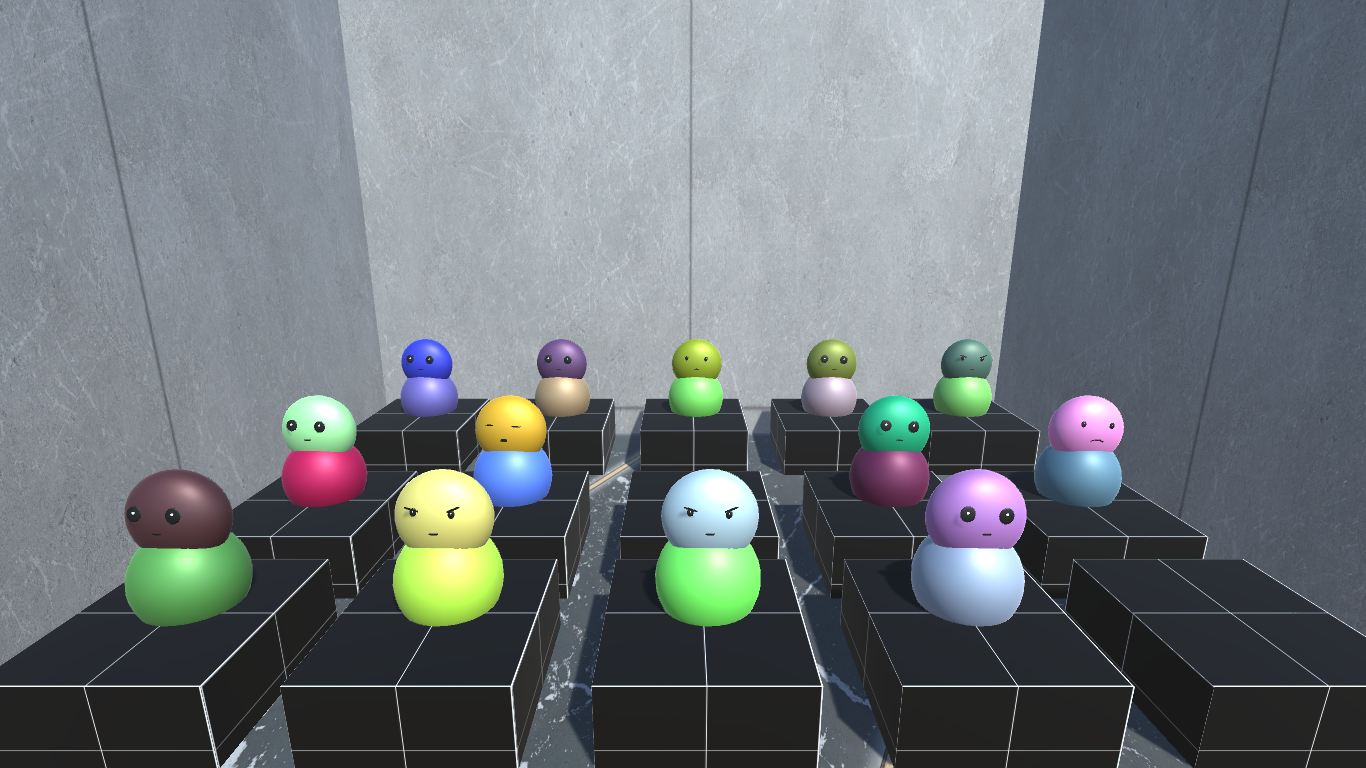blob_atento: (910, 457, 1024, 563), (114, 467, 237, 557), (275, 393, 357, 455), (854, 394, 934, 455), (396, 334, 455, 383), (801, 336, 858, 381), (535, 338, 587, 380)
blob_dormindo: (466, 392, 546, 457)
blob_normal: (667, 336, 723, 383)
blob_raiva: (387, 466, 495, 551), (653, 469, 765, 550), (936, 335, 995, 382)
blob_triste: (1043, 388, 1127, 455)
